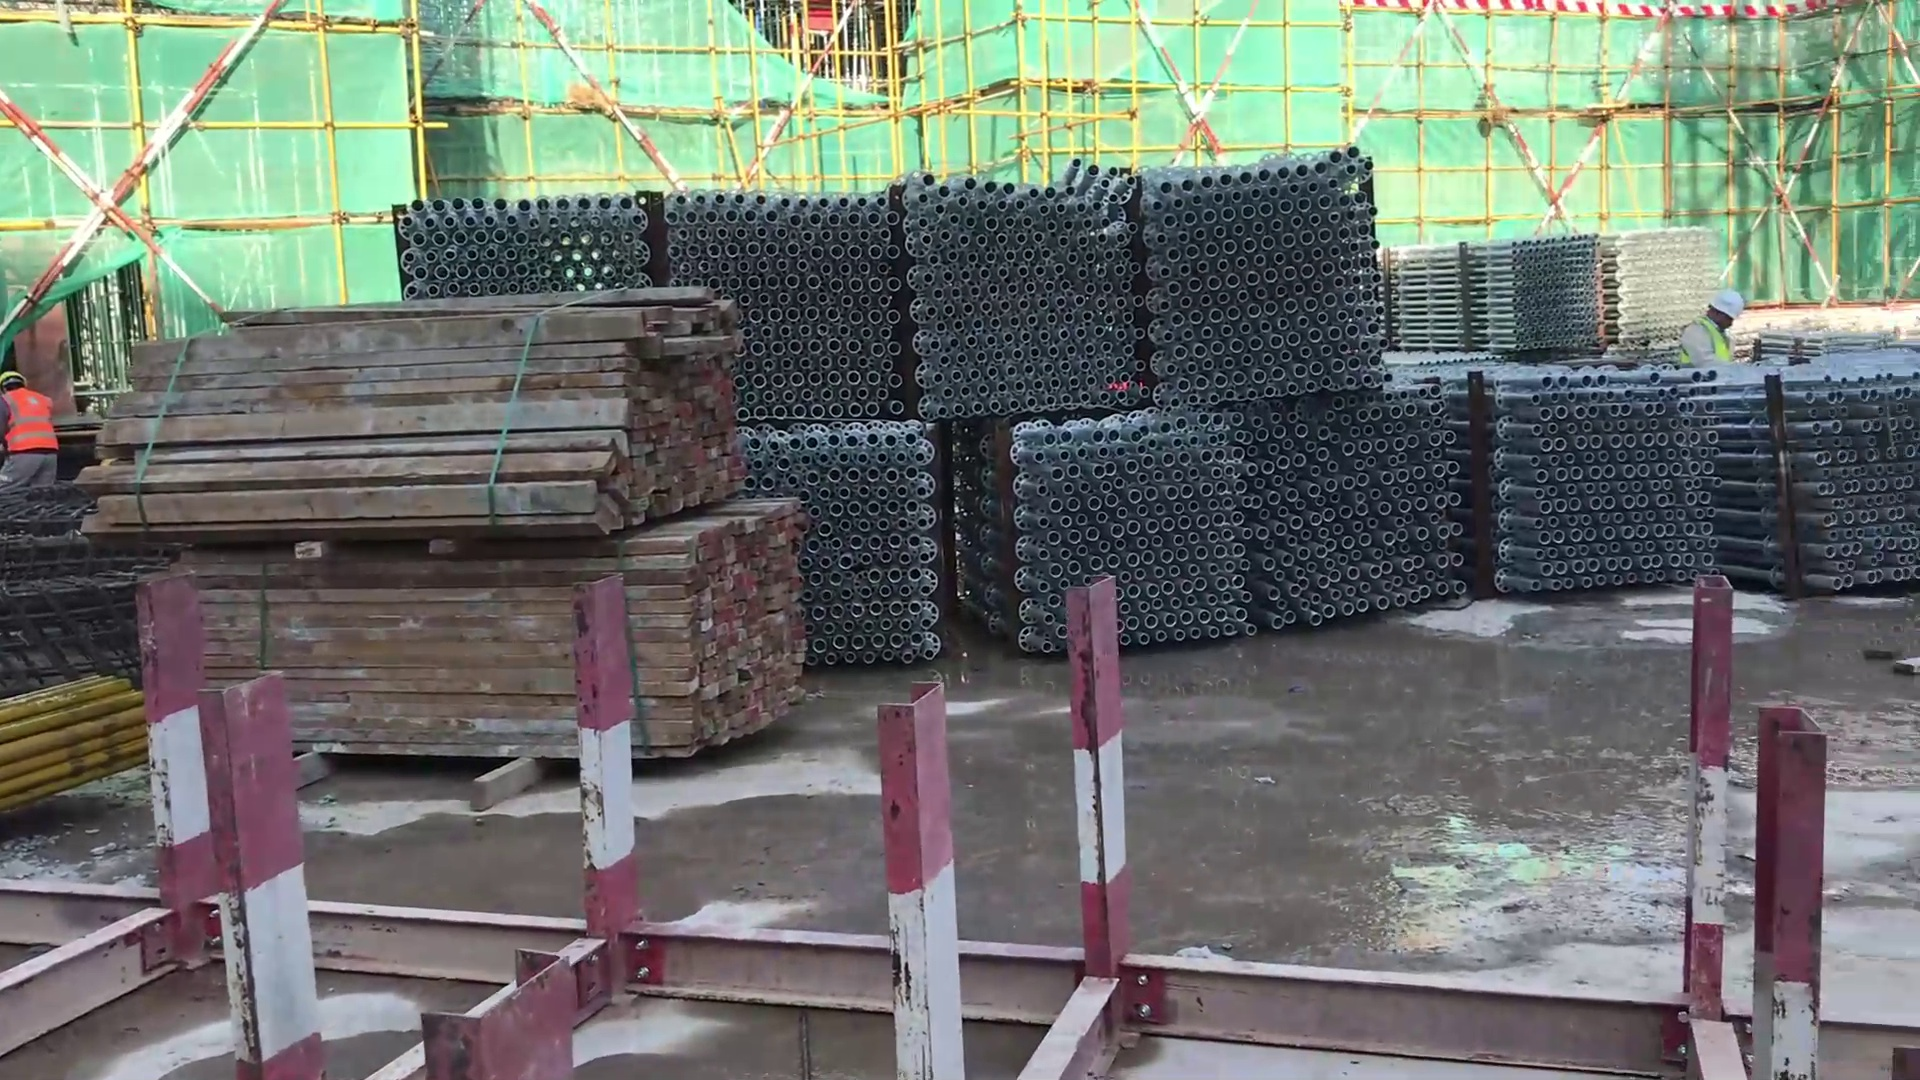person: (1, 350, 78, 506)
scaffold: (386, 154, 1919, 621)
vest: (2, 379, 59, 449)
wood: (55, 284, 821, 743)
